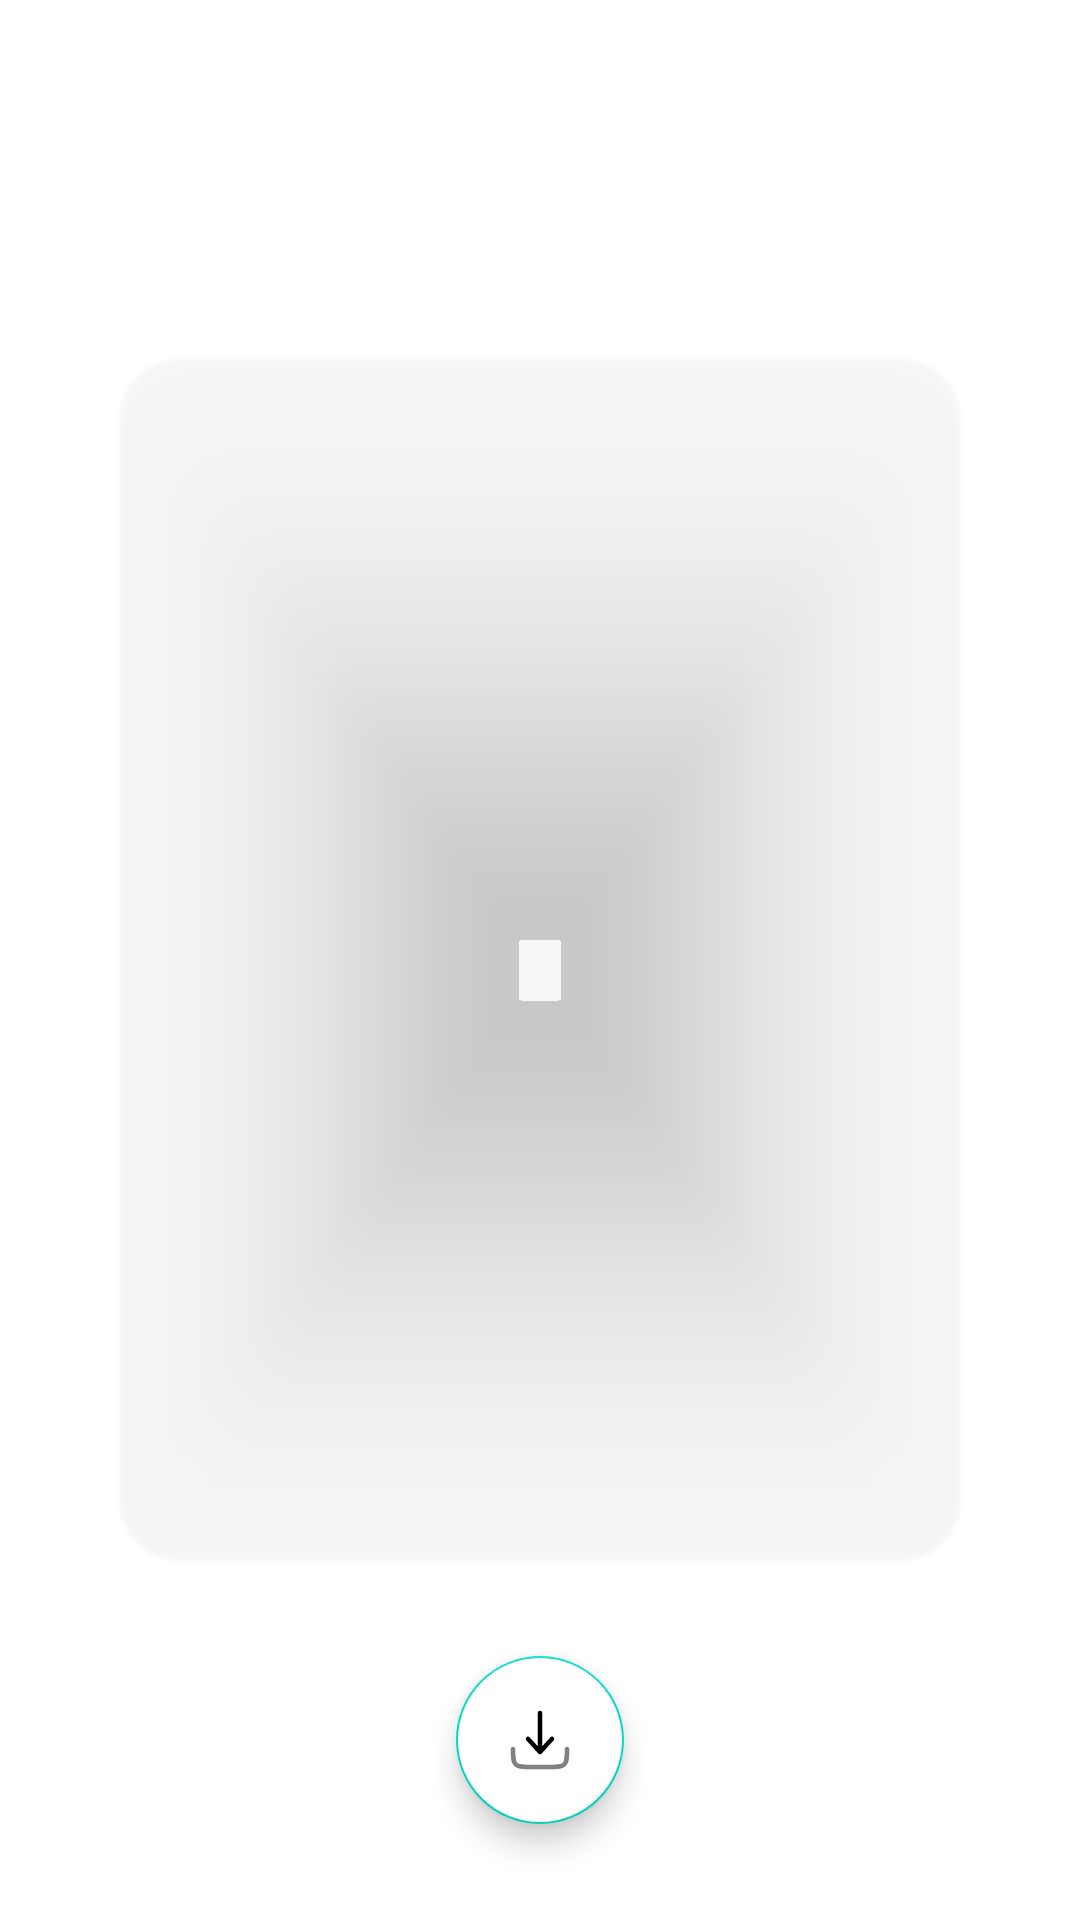

Locate icon controls on the screen. Image size 1080x1920, boxes as (x1, y1, x2, y2).
downloadsvg: (456, 1656, 624, 1824)
